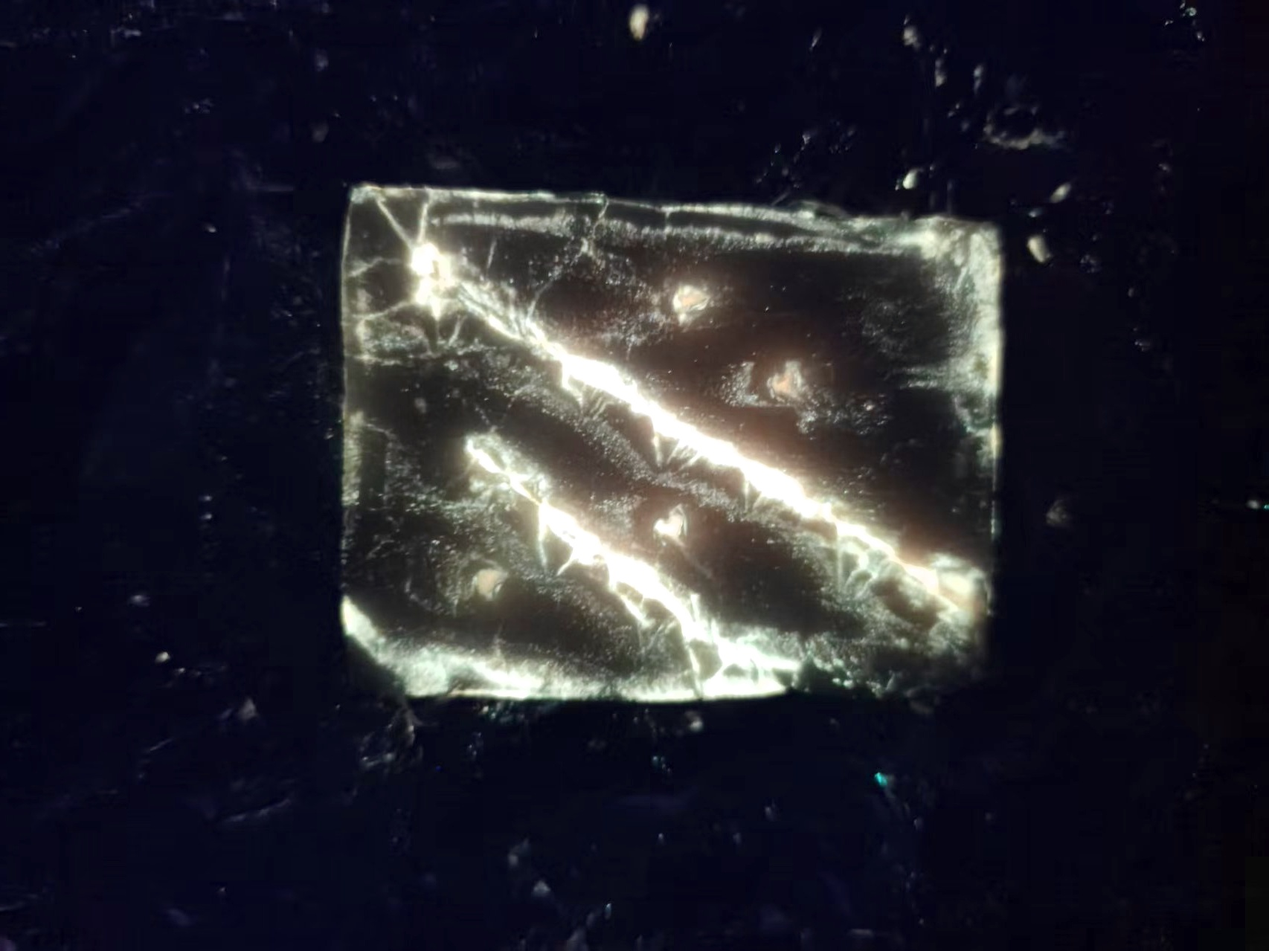Crater: (729, 347, 854, 423), (432, 545, 523, 626), (640, 265, 731, 344), (628, 496, 714, 558)
Fissure: (388, 244, 965, 619), (440, 418, 822, 686)
